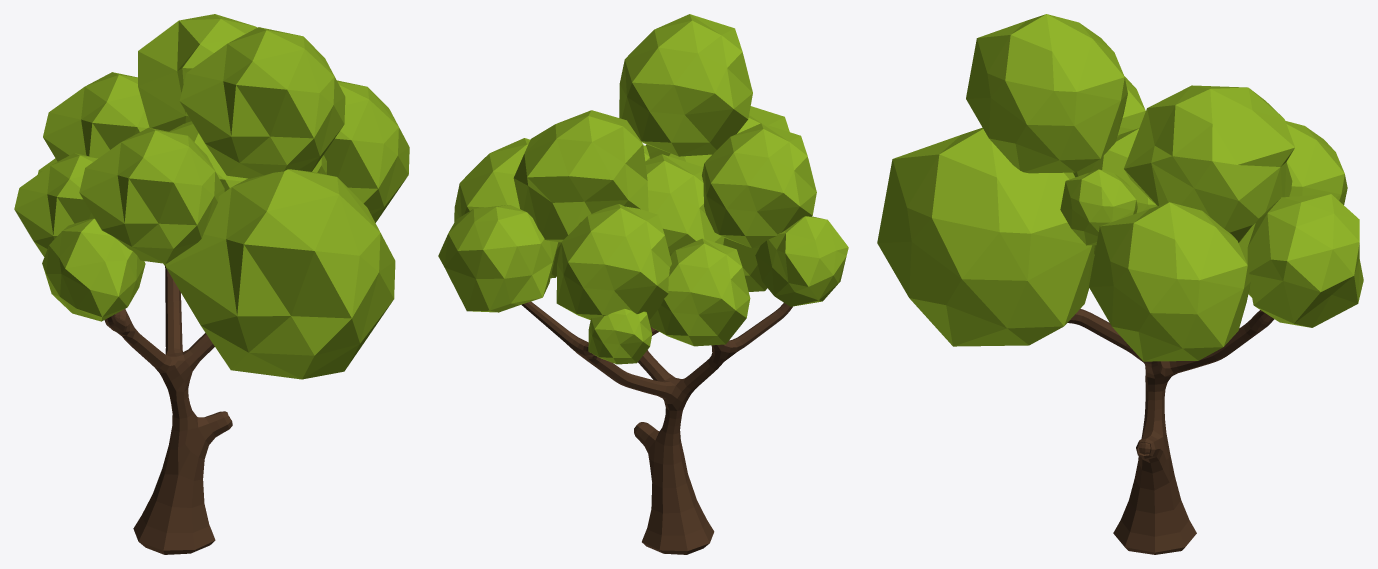
The model's file is Sakura Tree.fbx.
3 views of the same model, side by side, from view 1: azimuth 30°, elevation 25°; view 2: azimuth 150°, elevation 25°; view 3: azimuth 270°, elevation 25° (orthographic). The views are drawn at different scales.
Parts seen in each view (by area): view 1: Icosphere.001, Icosphere.002; view 2: Icosphere.001, Icosphere.002; view 3: Icosphere.001, Icosphere.002.
Part boxes in pixels (x1=…): Icosphere.001: x1=14, y1=14, x2=409, y2=379; Icosphere.002: x1=104, y1=265, x2=232, y2=554; Icosphere.001: x1=438, y1=14, x2=848, y2=364; Icosphere.002: x1=521, y1=301, x2=792, y2=554; Icosphere.001: x1=877, y1=14, x2=1363, y2=361; Icosphere.002: x1=1067, y1=309, x2=1274, y2=554.
Size of the model in its own units: 422 by 459 by 570.
